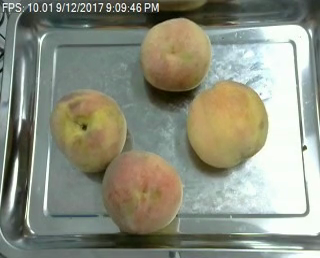Peach: (187, 80, 268, 168), (100, 150, 183, 234), (50, 88, 128, 173), (140, 17, 212, 91)
